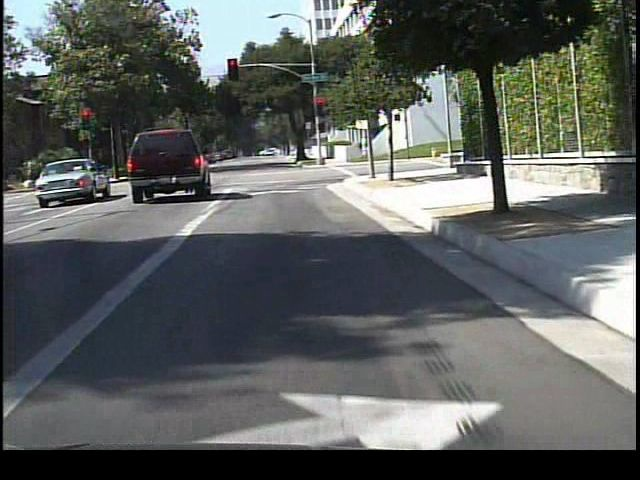person: (358, 135, 368, 162)
